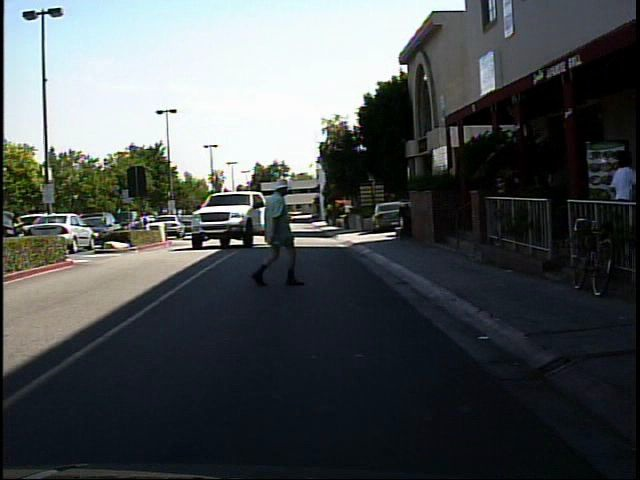person: (246, 170, 305, 289), (601, 142, 632, 267), (8, 205, 32, 262), (137, 206, 154, 241), (218, 205, 235, 230)
